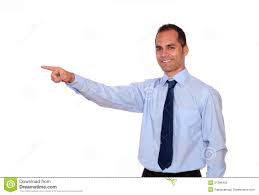hand: (37, 53, 76, 90)
